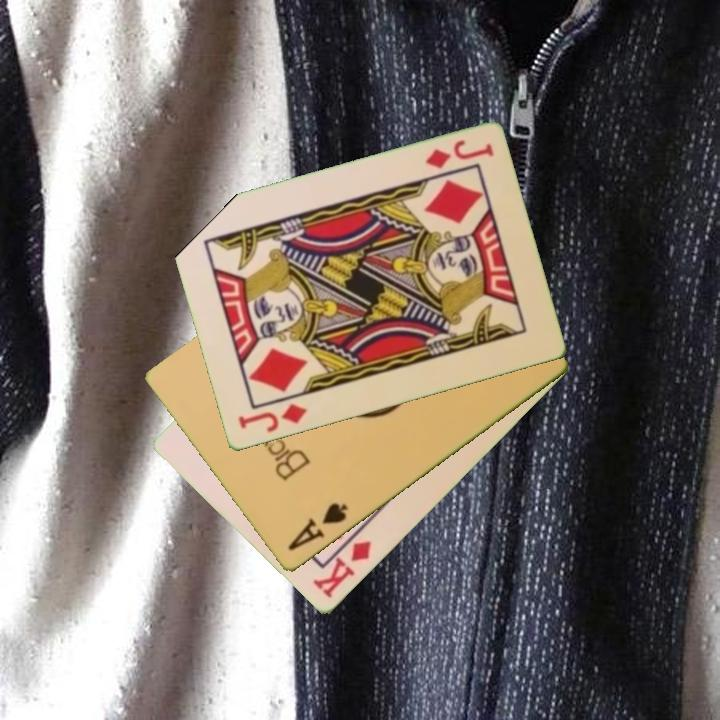As: (284, 499, 351, 554)
Jd: (234, 400, 310, 436), (421, 136, 497, 172)
Kd: (309, 537, 375, 602)
